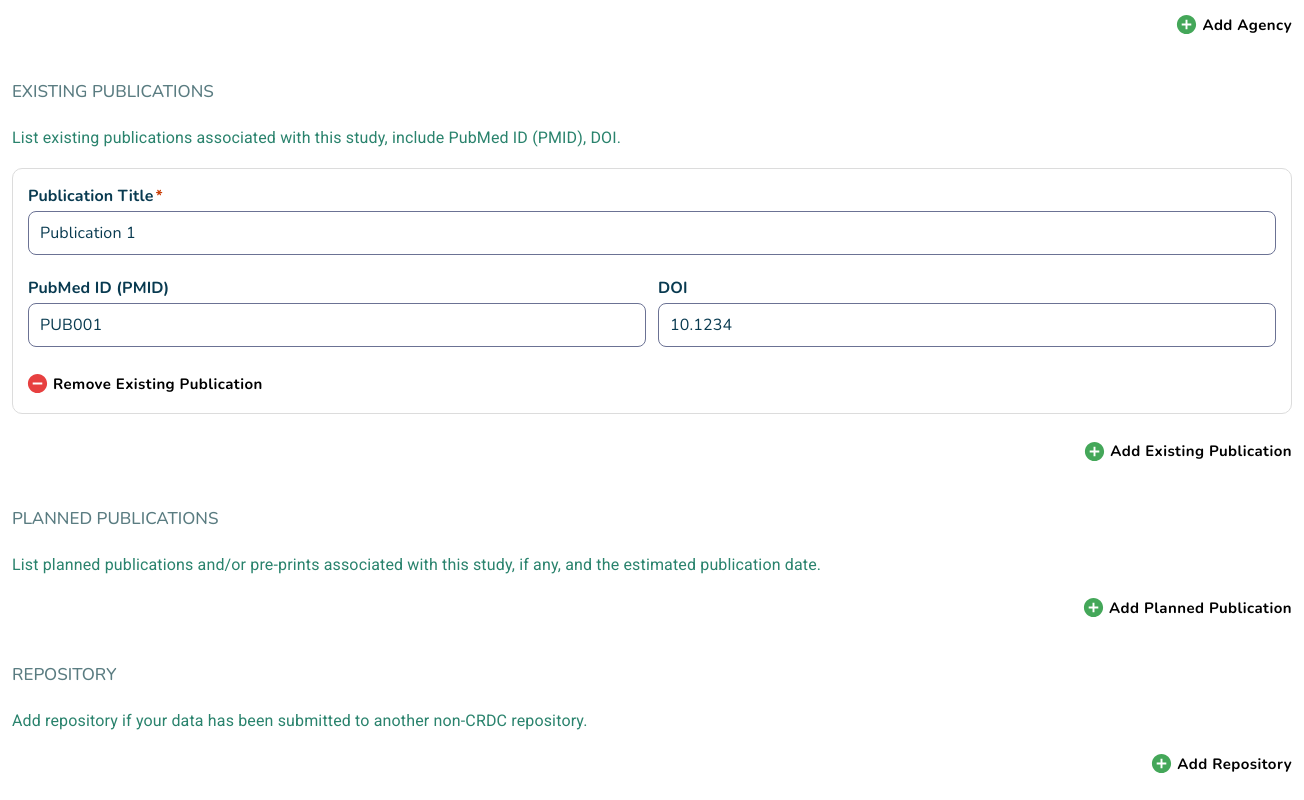
Scenario: Basic Functionality › should add a publication when add button is clicked
(page scrolled)
Expected: the element with test id "section-b-publication-0" is shown, [12,168,1292,414]
Click the button with test id "section-b-add-publication-button" at (1189, 452), box [1085,440,1292,463]
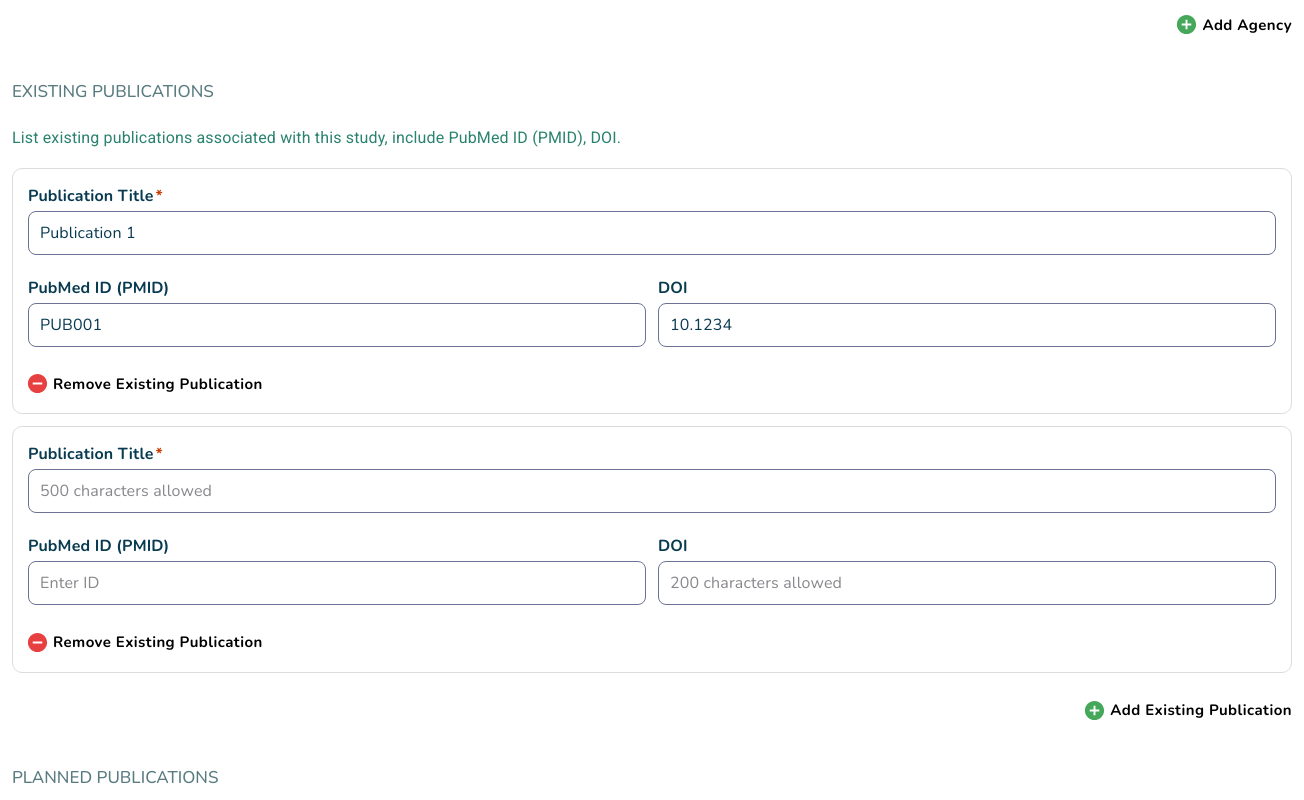
Now the element with test id "section-b-publication-1" is shown, box [12,426,1292,673]
